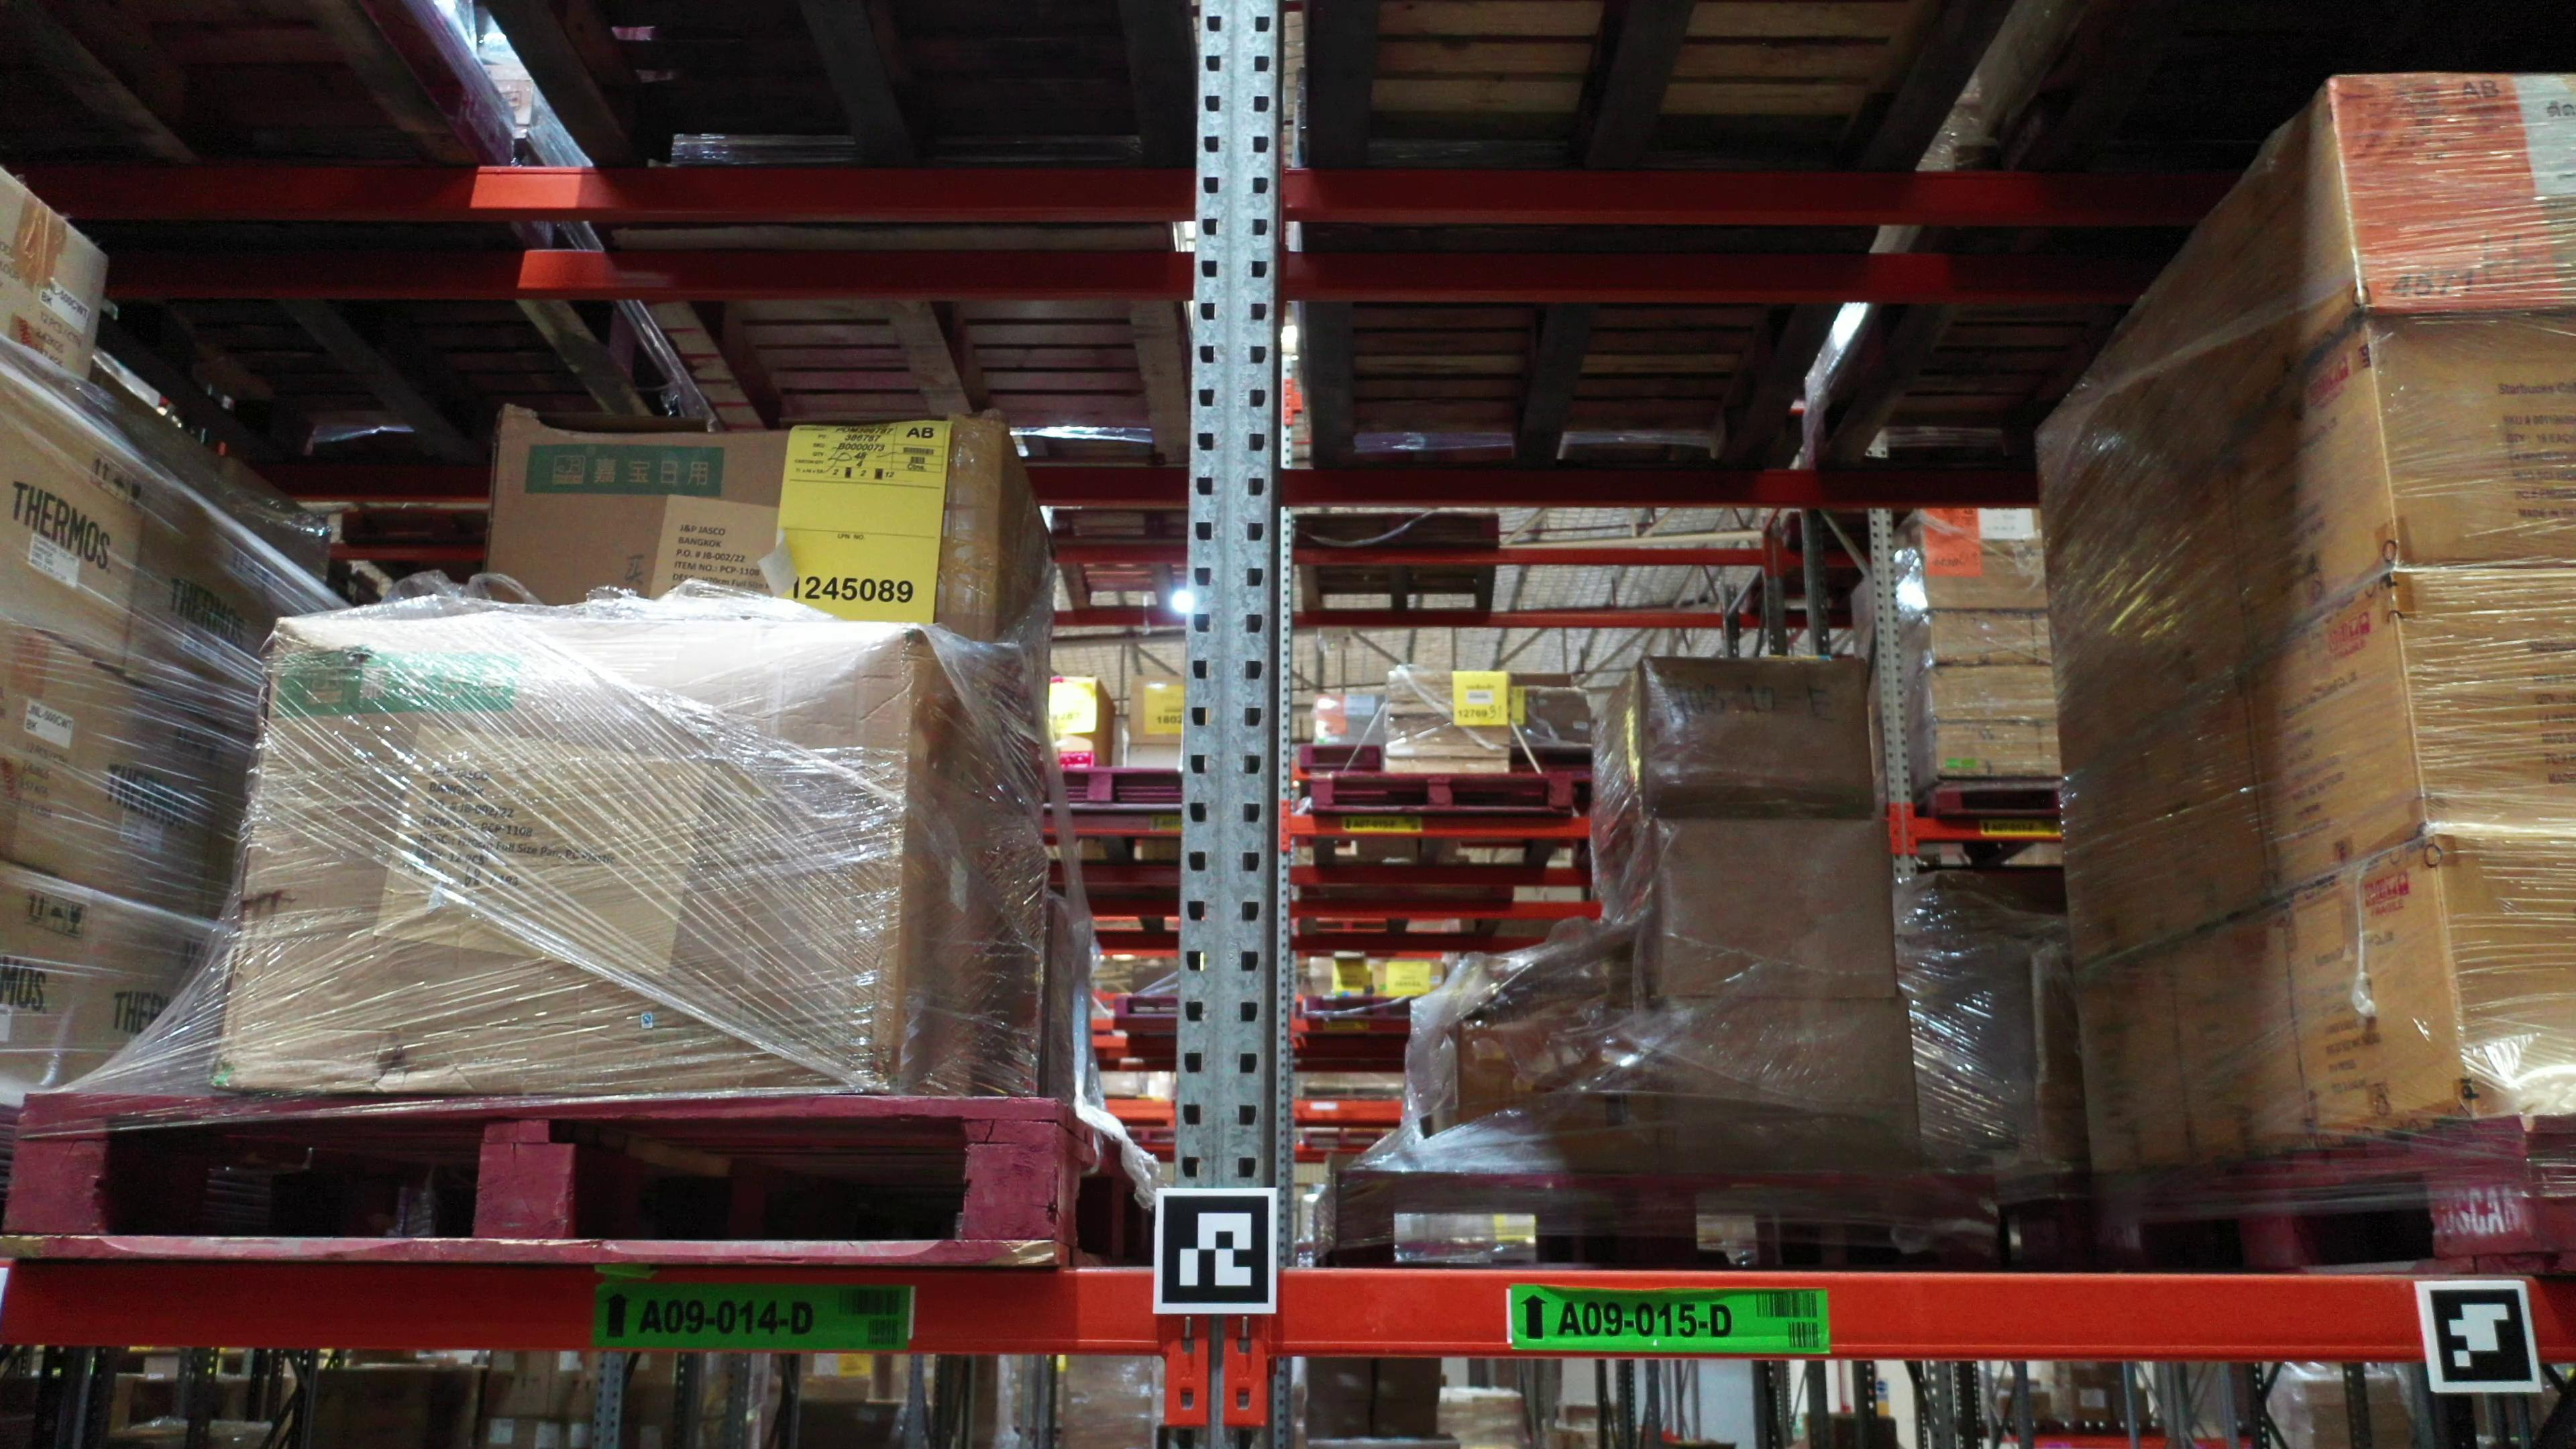-: (209, 617, 915, 1099), (478, 416, 1001, 718), (2328, 71, 2576, 313), (2362, 306, 2576, 570), (2390, 559, 2576, 837), (2431, 830, 2576, 1122)
box: (1658, 993, 1921, 1175), (1654, 812, 1898, 1001), (1637, 655, 1874, 819), (1454, 1008, 1660, 1171)
